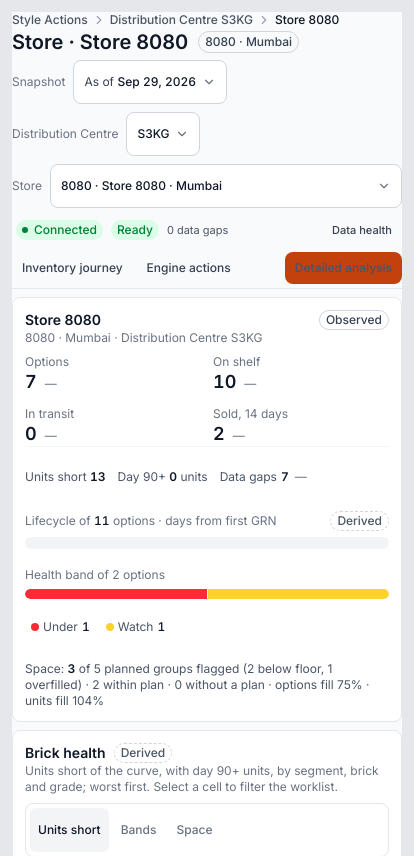
Test: header and store picker (S2-C45, S2-C46, S2-C50) › searches stores inside the picker
The image size is (414, 856).
Click the button with test id "store-picker": (142, 186) [50,164,402,208]
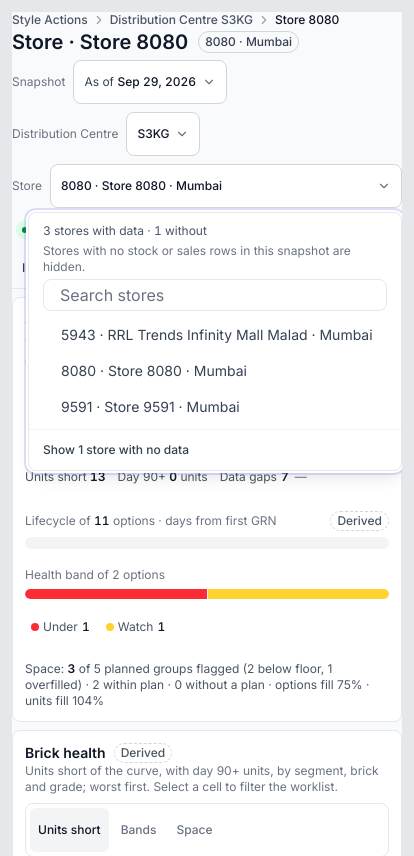
In the field labelled "Search stores": (215, 295) [43,279,387,311], type "malad"
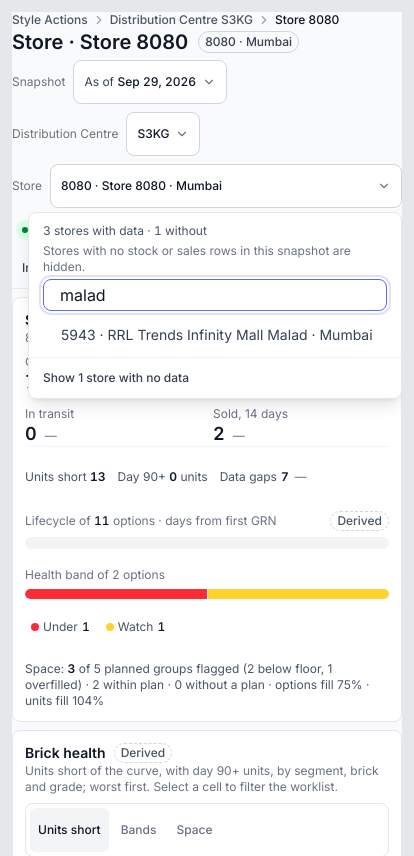
Expected: the menu item with test id "store-option-5943" is shown, [61,326,373,343]
Expected: the menu item with test id "store-option-8080" is gone
